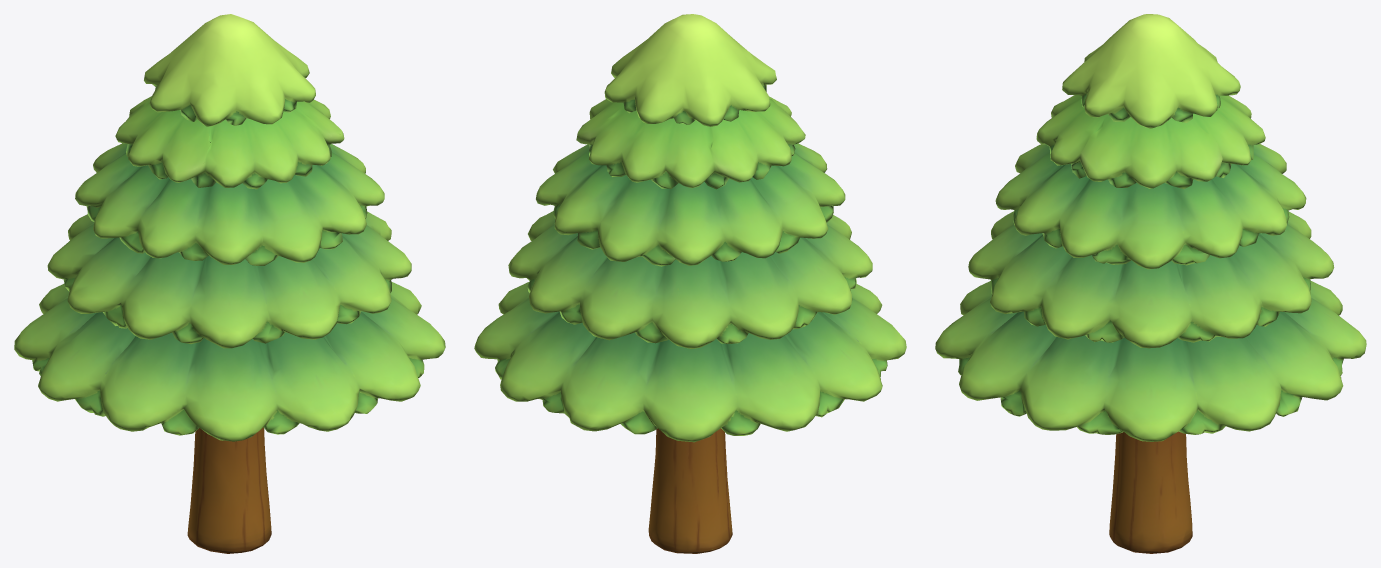
The model's file is arbol.glb.
3 views of the same model, side by side, from view 1: azimuth 30°, elevation 25°; view 2: azimuth 150°, elevation 25°; view 3: azimuth 270°, elevation 25° (orthographic).
Size of the model in its own units: 0.7495 by 0.9933 by 0.7475.
Materials: 1 (1 with a texture image).
